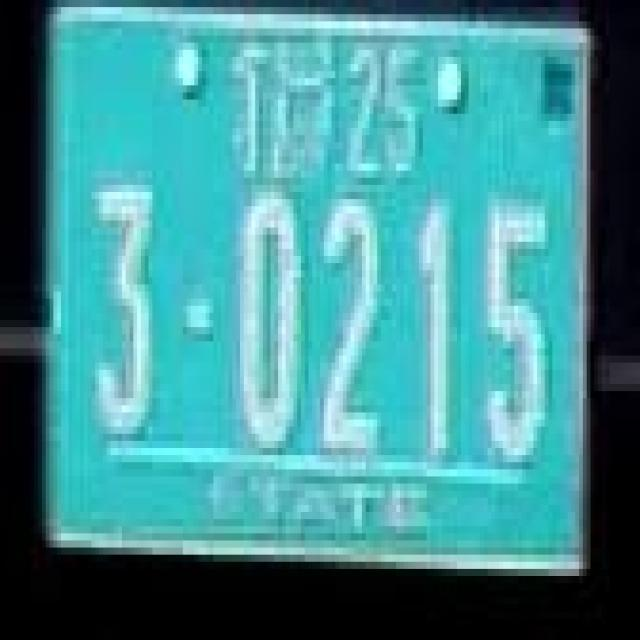State: (233, 43, 338, 192)
